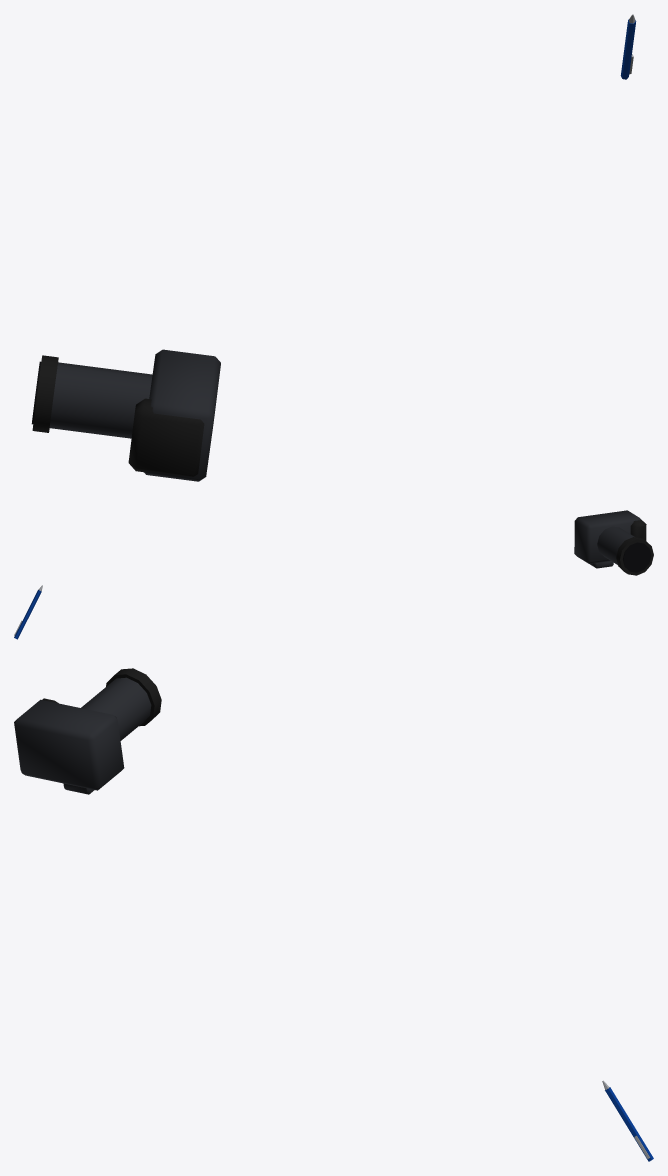
Rendered from Ambientacion_Cupula.fbx.
3 views of the same model, one above another, from view 1: azimuth 30°, elevation 25°; view 2: azimuth 150°, elevation 25°; view 3: azimuth 270°, elevation 25° (orthographic). The views are drawn at different scales.
Parts seen in each view (by area): view 1: F_Flot_Camara_1; view 2: F_Flot_Camara_1, F_Flot_Lapicera_2; view 3: F_Flot_Camara_1.
Boxes of the visible parts, box(x1,y1,x2,y2) form: F_Flot_Camara_1: box(31, 349, 220, 481); F_Flot_Camara_1: box(574, 510, 653, 575); F_Flot_Lapicera_2: box(14, 585, 42, 639); F_Flot_Camara_1: box(14, 668, 161, 794).
Bounding box in the file's own units: 1.31 × 0.2426 × 0.9824.
